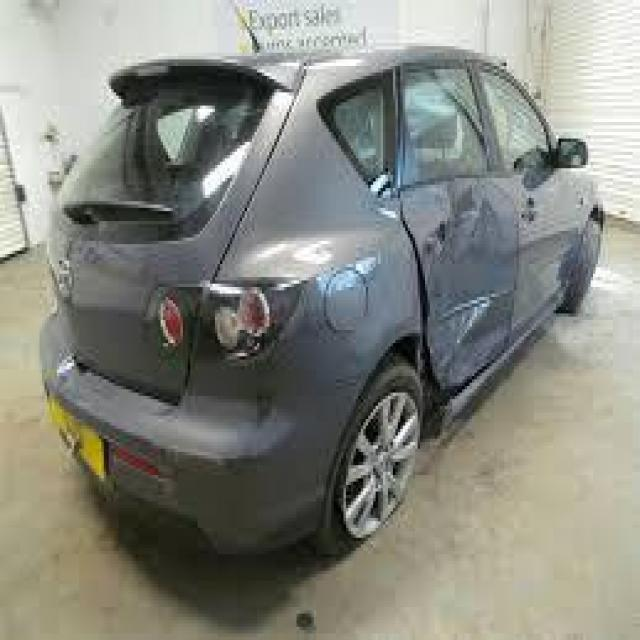damaged: (396, 175, 504, 432)
